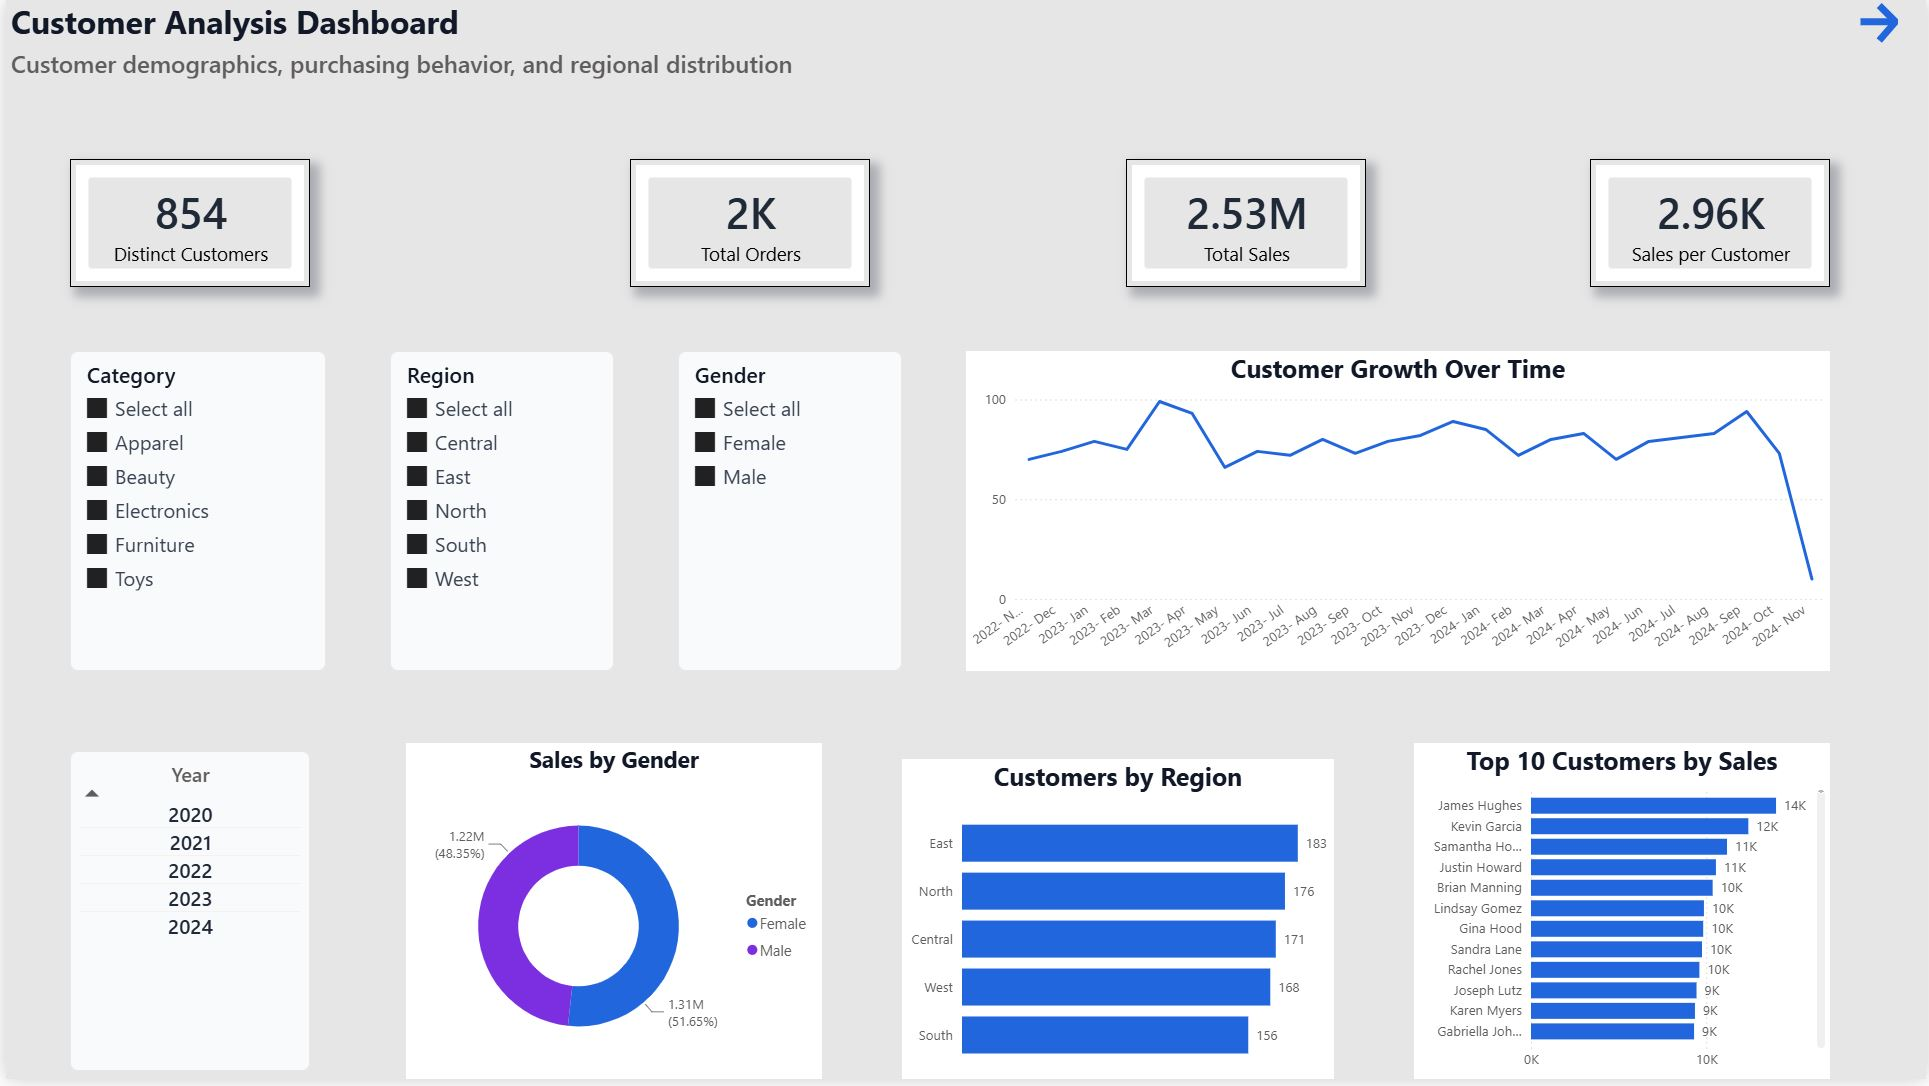

This screenshot's page, from the dashboard's own definition file:
{"tool":"powerbi","page":{"name":"Customer Analysis","canvas":[1920,1080],"ordinal":2},"visuals":[{"type":"textbox","title":"Customer Analysis Dashboard","box":[0,0,832,128],"z":0},{"type":"cardVisual","fields":{"Data":["Measures (2).Distinct Customers"]},"box":[64,160,240,128],"z":1000},{"type":"cardVisual","fields":{"Data":["Measures (2).Total Orders"]},"box":[624,160,240,128],"z":2000},{"type":"cardVisual","fields":{"Data":["Measures (2).Total Sales"]},"box":[1120,160,240,128],"z":3000},{"type":"cardVisual","fields":{"Data":["Measures (2).Sales per Customer"]},"box":[1584,160,240,128],"z":4000},{"type":"clusteredBarChart","title":"Customers by Region","fields":{"Category":["Customers.Region"],"Y":["Measures (2).Distinct Customers"]},"box":[896,760,432,320],"z":5000},{"type":"donutChart","title":" Sales by Gender","fields":{"Category":["Customers.Gender"],"Y":["Measures (2).Total Sales"]},"box":[400,744,416,336],"z":6000},{"type":"clusteredBarChart","title":"Top 10 Customers by Sales","fields":{"Category":["Customers.CustomerName"],"Y":["Measures (2).Total Sales"]},"box":[1408,744,416,336],"z":7000},{"type":"lineChart","title":"Customer Growth Over Time","fields":{"Category":["Date.Year-Month"],"Y":["Measures (2).Distinct Customers"]},"box":[960,352,864,320],"z":8000},{"type":"tableEx","fields":{"Values":["Date.Year"]},"box":[64,752,240,320],"z":9000},{"type":"slicer","fields":{"Values":["Customers.Region"]},"box":[384,352,224,320],"z":10000},{"type":"slicer","fields":{"Values":["Products.Category"]},"box":[64,352,256,320],"z":11000},{"type":"slicer","fields":{"Values":["Customers.Gender"]},"box":[672,352,224,320],"z":12000},{"type":"actionButton","box":[1824,0,96,48],"z":12001}]}

Visuals, with their boxes in screenshot pixels (x1, y1, x2, y2), scaled from the page's 1920x1080 canvas onto the 1929x1086 screenshot:
"Customer Analysis Dashboard" textbox: [left=0, top=0, right=836, bottom=129]
cardVisual - Measures (2).Distinct Customers: [left=64, top=161, right=305, bottom=290]
cardVisual - Measures (2).Total Orders: [left=627, top=161, right=868, bottom=290]
cardVisual - Measures (2).Total Sales: [left=1125, top=161, right=1366, bottom=290]
cardVisual - Measures (2).Sales per Customer: [left=1591, top=161, right=1833, bottom=290]
"Customers by Region" clusteredBarChart: [left=900, top=764, right=1334, bottom=1085]
" Sales by Gender" donutChart: [left=402, top=748, right=820, bottom=1085]
"Top 10 Customers by Sales" clusteredBarChart: [left=1415, top=748, right=1833, bottom=1085]
"Customer Growth Over Time" lineChart: [left=964, top=354, right=1833, bottom=676]
tableEx - Date.Year: [left=64, top=756, right=305, bottom=1078]
slicer - Customers.Region: [left=386, top=354, right=611, bottom=676]
slicer - Products.Category: [left=64, top=354, right=322, bottom=676]
slicer - Customers.Gender: [left=675, top=354, right=900, bottom=676]
actionButton: [left=1833, top=0, right=1928, bottom=48]
